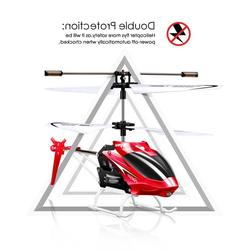drone: (42, 68, 220, 220)
